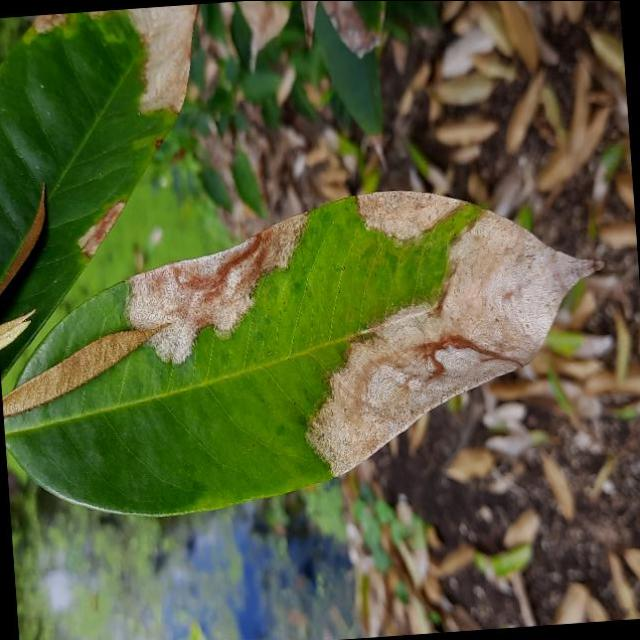Leaf Blight: (0, 166, 626, 534)
